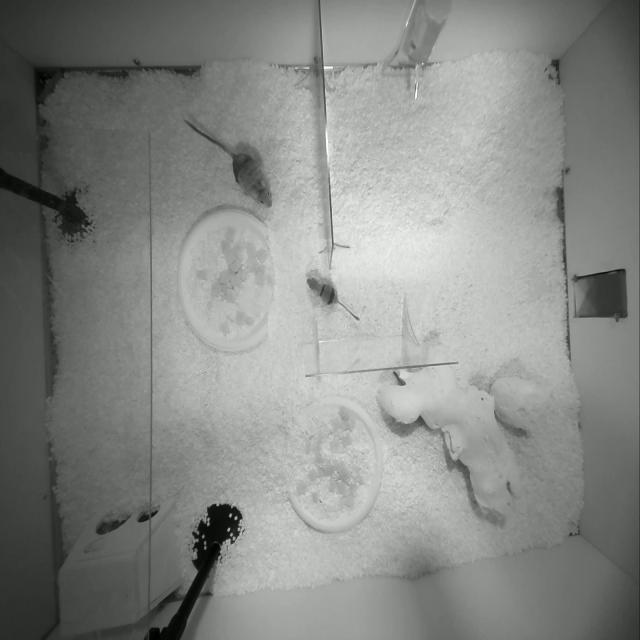adult_back: (184, 119, 272, 207)
pup_h_stripe: (307, 278, 359, 319)
